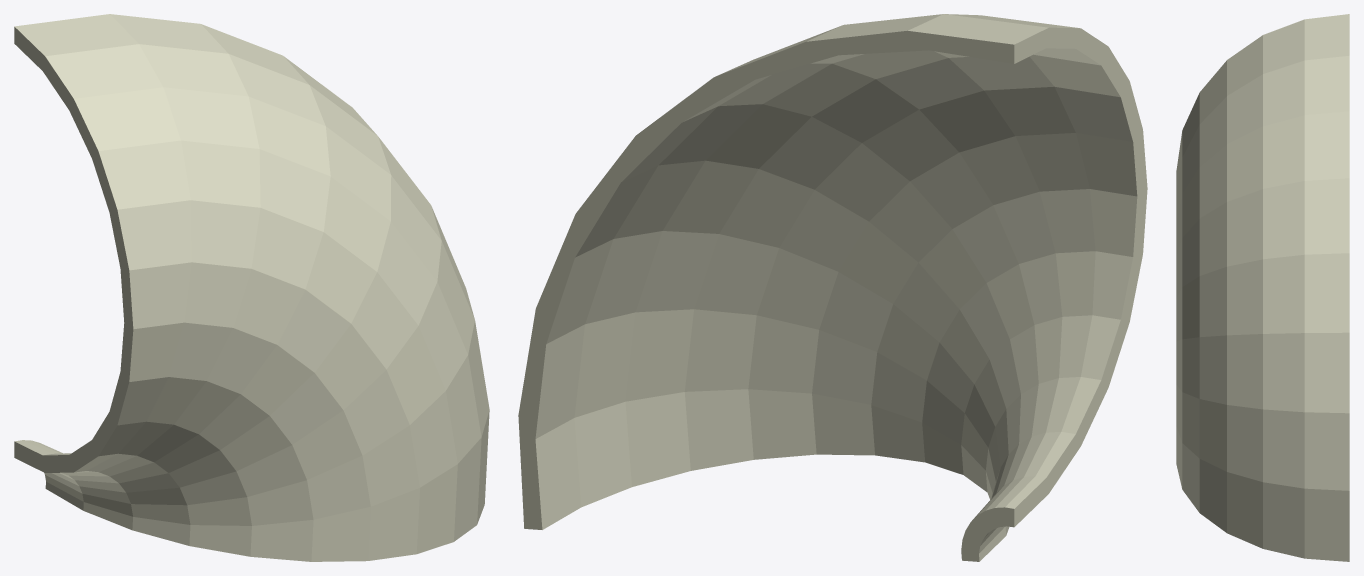
The model's file is section_025.obj.
3 views of the same model, side by side, from view 1: azimuth 30°, elevation 25°; view 2: azimuth 150°, elevation 25°; view 3: azimuth 270°, elevation 25° (orthographic). The views are drawn at different scales.
Bounding box in the file's own units: 27.96 × 32.52 × 13.
